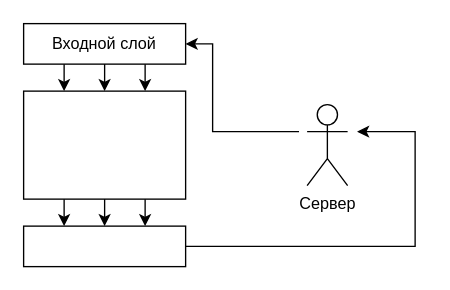
Image size: 450x290. Some labels were removed from this diagram. Each missing label, with the centre of its shape:
Выходной слой: (x=104, y=246)
Скрытые слои: (x=104, y=144)
